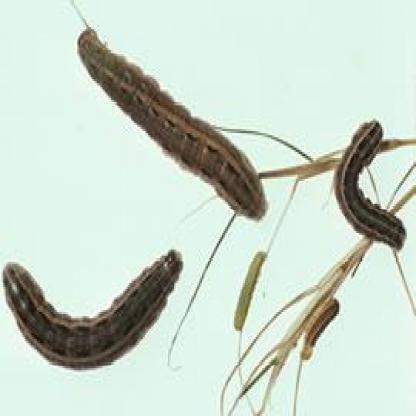armyworm: (75, 28, 267, 223), (0, 244, 183, 375), (336, 118, 408, 252), (235, 244, 273, 332), (300, 292, 348, 359)
